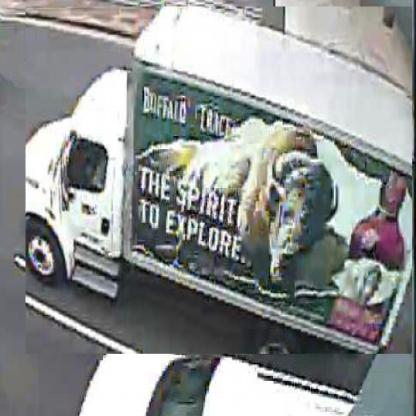truck: (26, 8, 414, 356)
